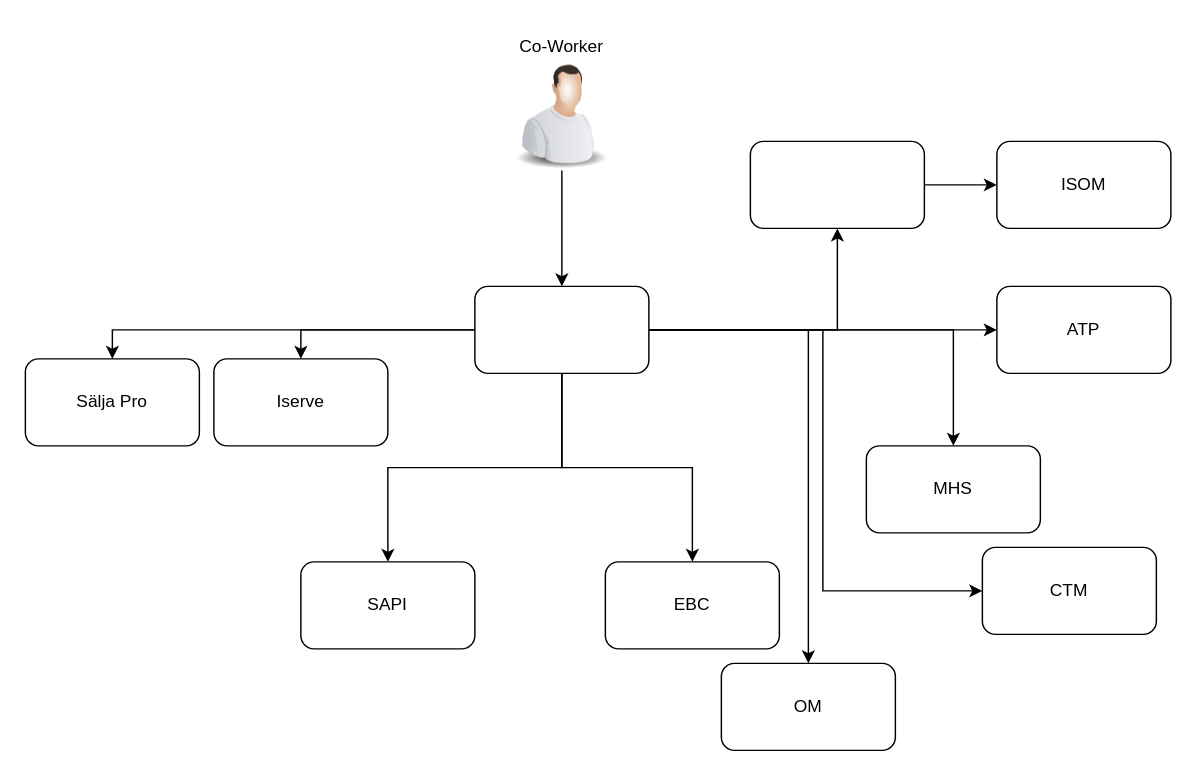
Some shapes in this 1196 by 776 pixel diagram are drawn without their labels. Here are the shapes that lost their labels. From the top down, the centre of each, then its label:
At pixel 836 184: "Centiro".
At pixel 561 329: "Isell".
